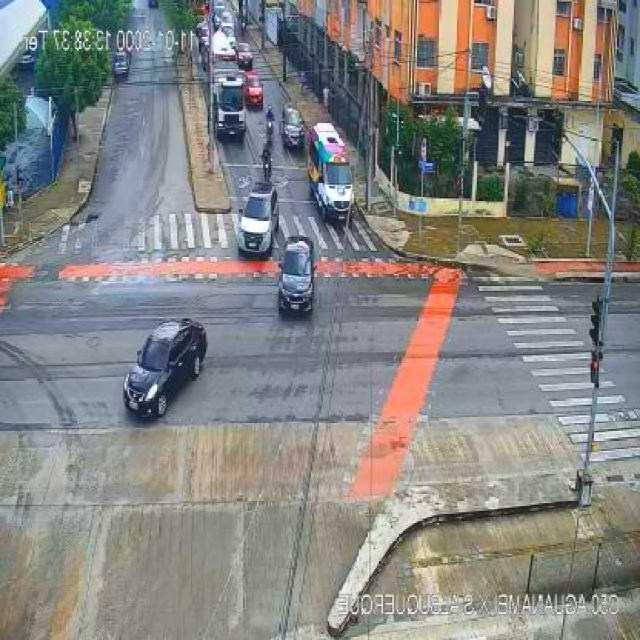Car: (113, 308, 209, 418), (230, 176, 283, 257), (275, 235, 317, 314), (282, 108, 307, 145), (111, 44, 135, 80), (244, 70, 264, 108), (238, 40, 256, 70)
Cycle: (256, 107, 278, 145), (253, 148, 280, 178)
Truck: (206, 65, 251, 142)
Van: (301, 122, 355, 222)
